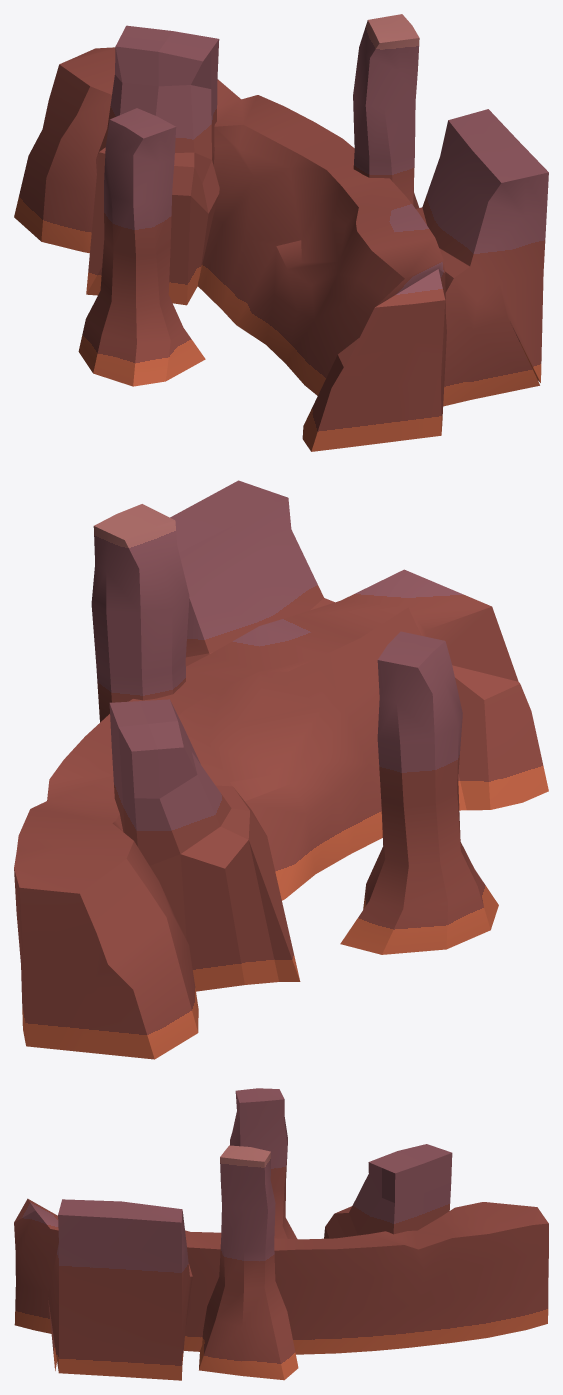
File: largebgobjct.glb
The picture shows the model from 3 angles, top to bottom: view 1: azimuth 30°, elevation 25°; view 2: azimuth 150°, elevation 25°; view 3: azimuth 270°, elevation 25°; orthographic projection. The views are drawn at different scales.
Parts seen in each view (by area): view 1: Landscape; view 2: Landscape; view 3: Landscape.
Part boxes in pixels (box(x1,y1,x2,y2)): Landscape: box(14, 14, 548, 451); Landscape: box(14, 480, 548, 1059); Landscape: box(14, 1088, 548, 1380).
Size of the model in its own units: 156 by 115 by 266.
Materials: 1 (1 with a texture image).
